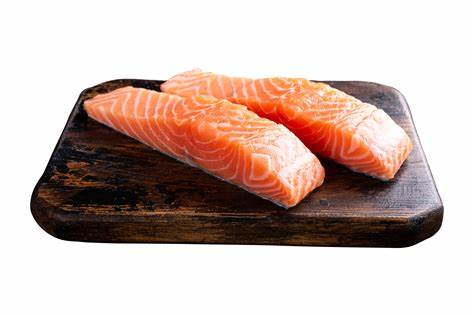Tuna: (78, 79, 327, 212), (158, 66, 414, 186)
